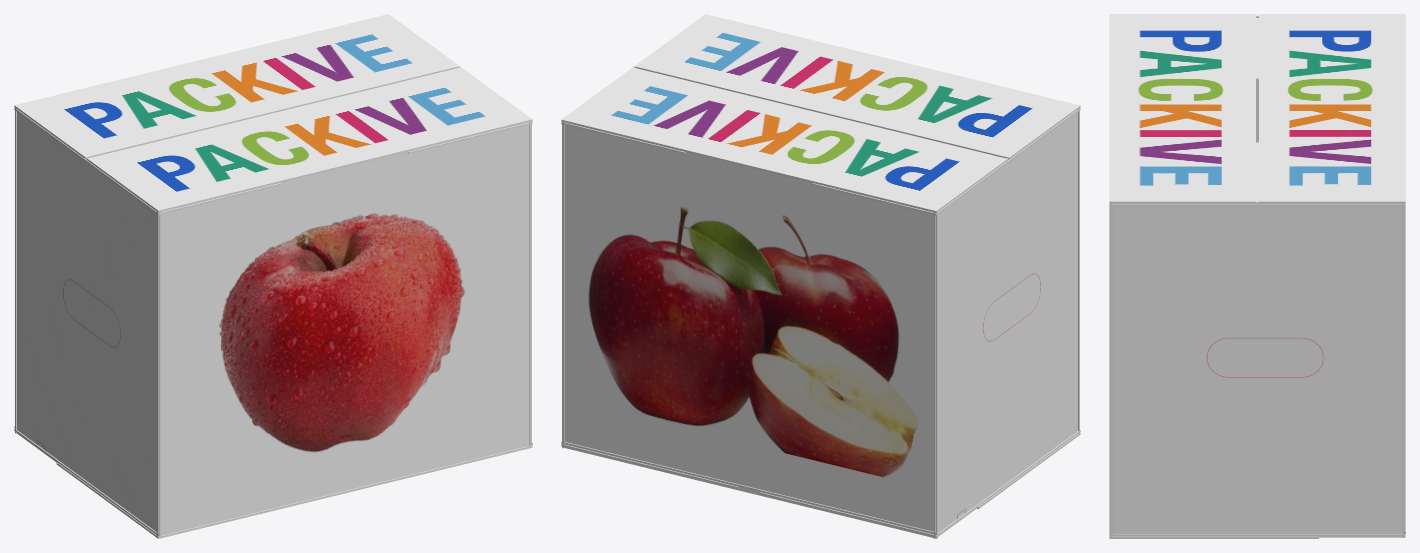
The picture shows the model from 3 angles, left to right: view 1: azimuth 30°, elevation 25°; view 2: azimuth 150°, elevation 25°; view 3: azimuth 270°, elevation 25°; orthographic projection. The views are drawn at different scales.
Visible parts, largest first — view 1: Packive_Box_fefco0216; view 2: Packive_Box_fefco0216; view 3: Packive_Box_fefco0216.
Part boxes in pixels (x1=…): Packive_Box_fefco0216: x1=14, y1=14, x2=532, y2=538; Packive_Box_fefco0216: x1=561, y1=14, x2=1080, y2=538; Packive_Box_fefco0216: x1=1109, y1=14, x2=1405, y2=538.
Size of the model in its own units: 0.3 by 0.2515 by 0.2.
24 materials, 12 textured.
